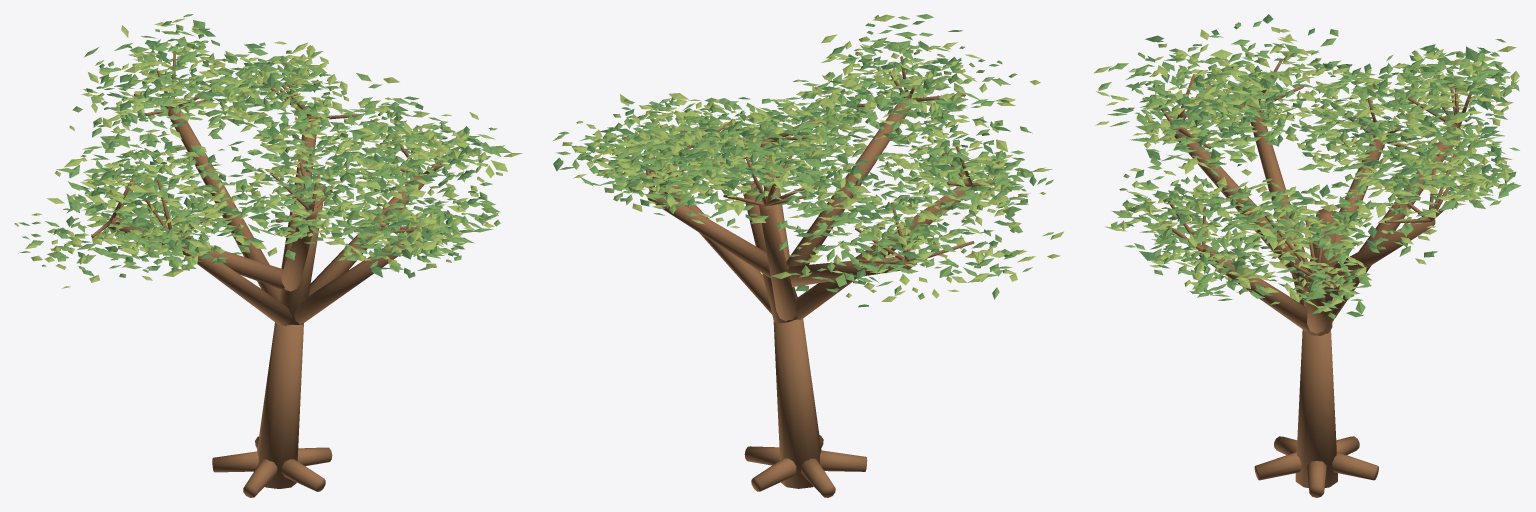
The model's file is CanyonTree.fbx.
3 renders of one model, left to right at view 1: azimuth 30°, elevation 25°; view 2: azimuth 150°, elevation 25°; view 3: azimuth 270°, elevation 25°, orthographic. The views are drawn at different scales.
Parts seen in each view (by area): view 1: CanyonTree; view 2: CanyonTree; view 3: CanyonTree.
Part boxes in pixels (x1,y1,x2,y2): CanyonTree: [14, 14, 522, 497]; CanyonTree: [553, 14, 1063, 497]; CanyonTree: [1094, 14, 1521, 497].
Bounding box in the file's own units: 5.71 × 4.71 × 4.44.
